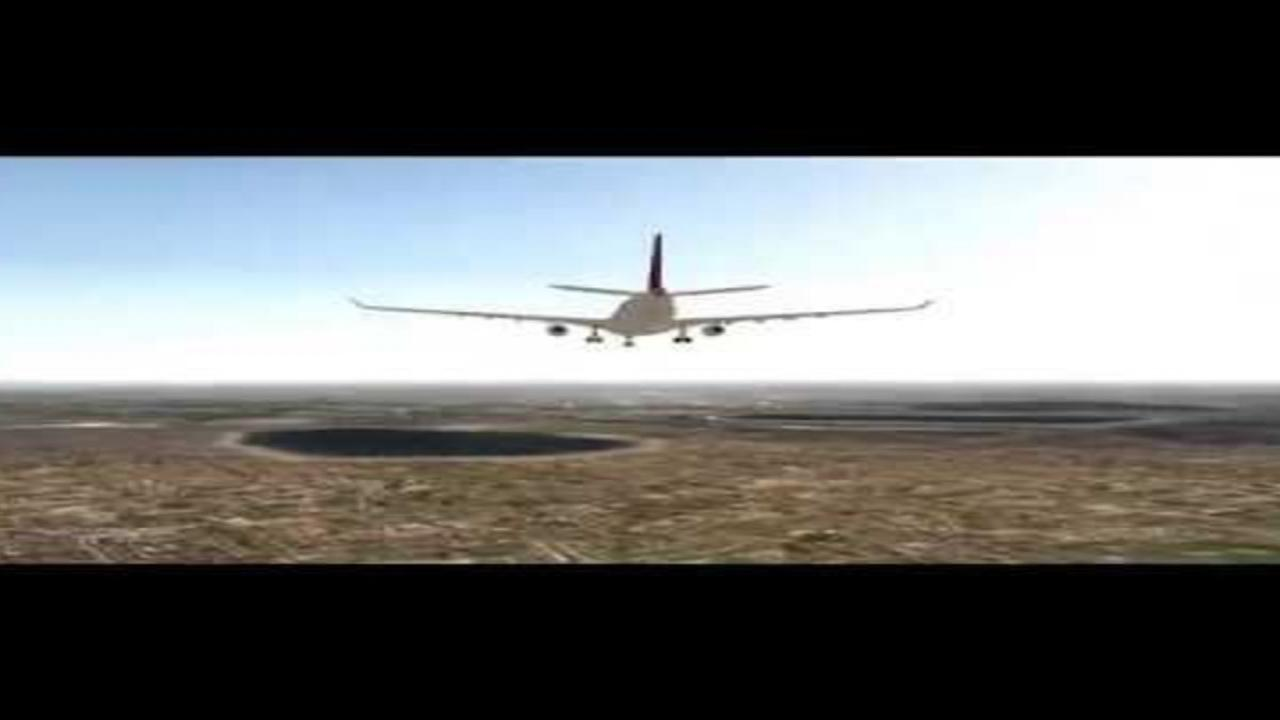Airplane: (312, 209, 976, 368)
